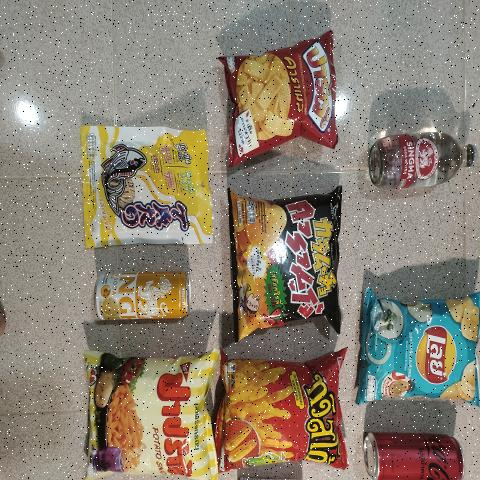coke_red: (362, 432, 466, 480)
karamujo: (232, 202, 340, 326)
lay_blue: (367, 296, 480, 404)
paprika: (87, 350, 216, 477)
party_red: (229, 46, 335, 150)
singha_soda: (365, 133, 474, 185)
singha_yellow: (94, 270, 190, 332)
taro_yellow: (83, 130, 210, 240)
twisco: (227, 360, 339, 463)
